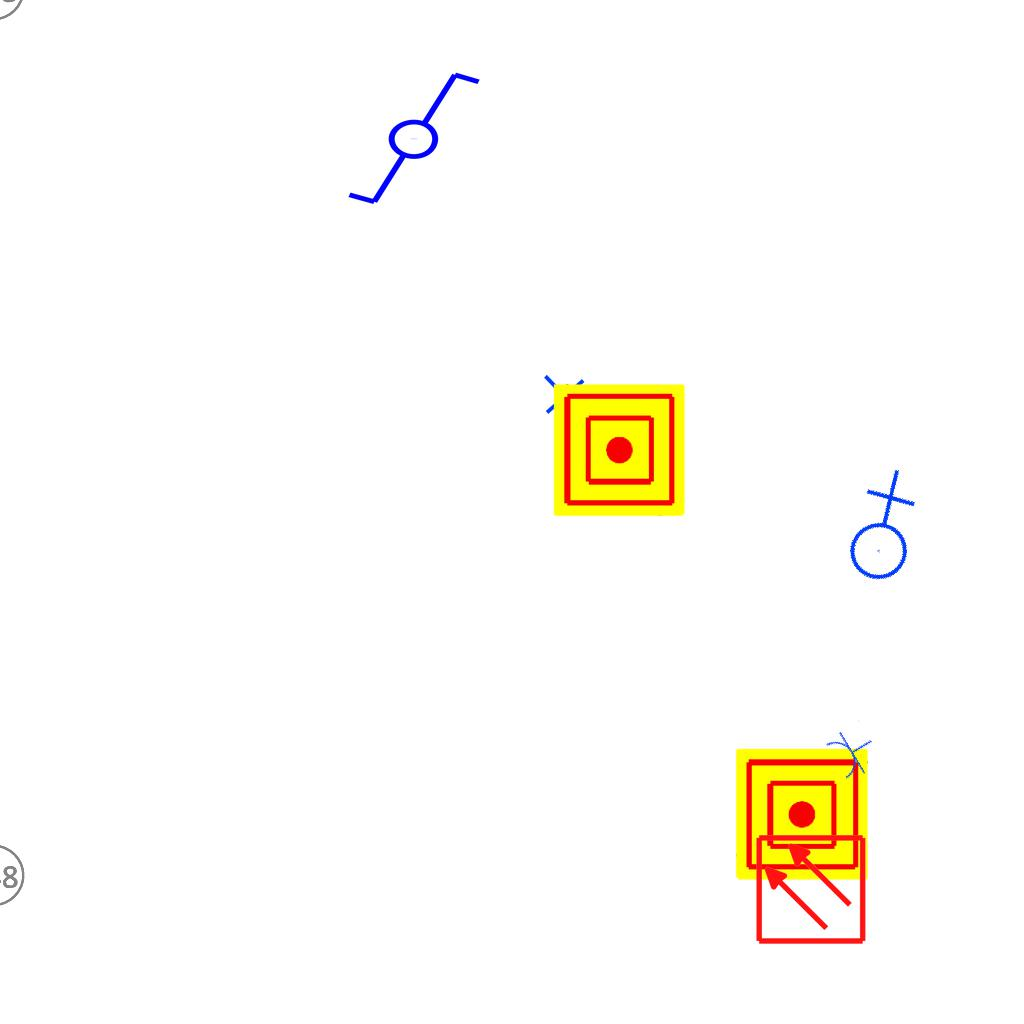Elektroanschluss_allgemein_230V_Geraeteanschlussdose_230V: (812, 463, 947, 597), (539, 374, 633, 473)
NAM-Nichtautomatischer_Melder: (736, 748, 868, 880), (553, 384, 685, 516)
RMO_Rauchmelder_optischer: (754, 833, 867, 946)
Schukosteckdose_einfach: (821, 718, 885, 785)
Wechselschalter: (327, 65, 484, 209)
